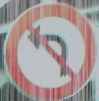Don't turn left: (8, 6, 88, 89)
